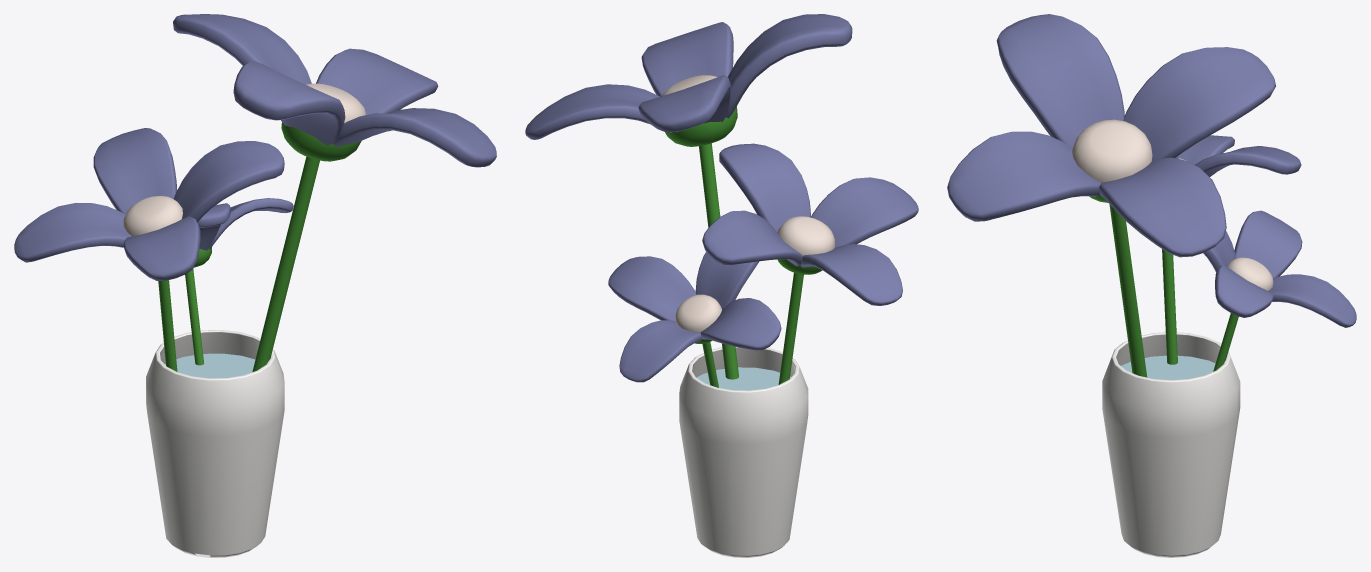
File: Vase_little_3.glb
3 views of the same model, side by side, from view 1: azimuth 30°, elevation 25°; view 2: azimuth 150°, elevation 25°; view 3: azimuth 270°, elevation 25° (orthographic). The views are drawn at different scales.
Parts seen in each view (by area): view 1: Vase_with_Flowers_5; view 2: Vase_with_Flowers_5; view 3: Vase_with_Flowers_5.
Part boxes in pixels (x1=…): Vase_with_Flowers_5: x1=14, y1=14, x2=496, y2=557; Vase_with_Flowers_5: x1=525, y1=14, x2=918, y2=557; Vase_with_Flowers_5: x1=947, y1=14, x2=1356, y2=557.
Bounding box in the file's own units: 0.5965 × 0.724 × 0.5283.
Materials: 2 (2 with a texture image).
